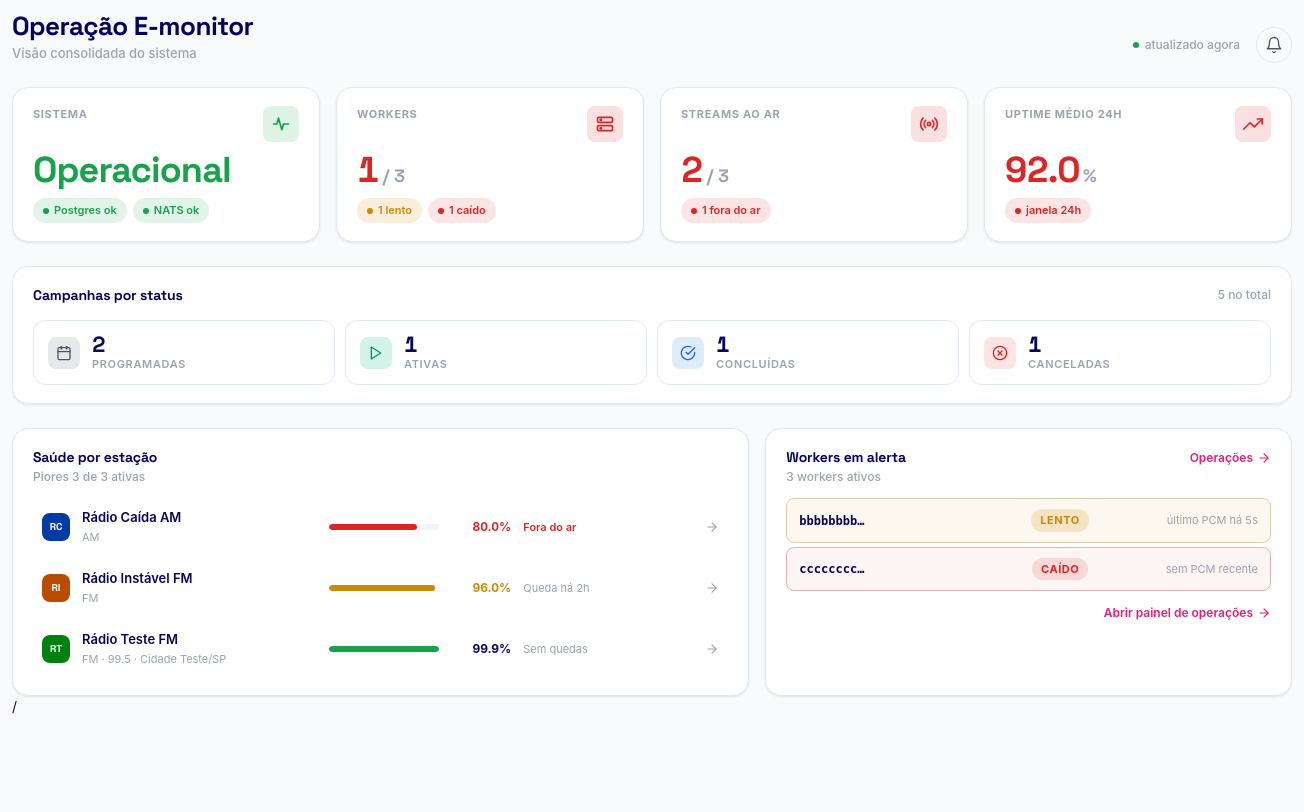
Test case: DashboardPage — admin › painel de saúde por estação lista a estação caída primeiro e abre a edição
Expected: the text "Piores 3 de 3 ativas" is shown, [33,468,157,486]
Expected: the text "Fora do ar" is shown, [523,520,576,534]
Click the button "RC Rádio Caída AM AM 80.0% Fora do ar" at (381,527), box [33,498,728,556]
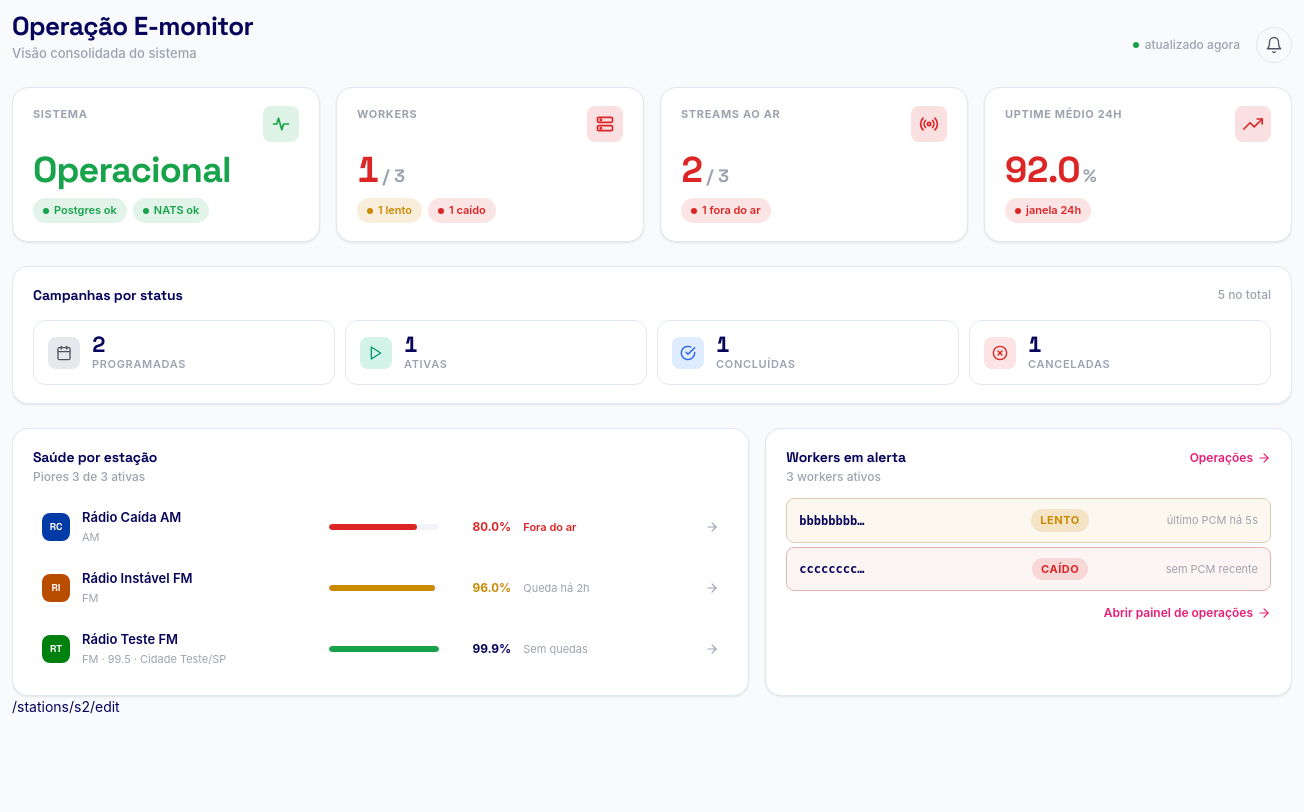
Expected: the text with test id "local" reads "/stations/s2/edit", [12,698,120,716]
